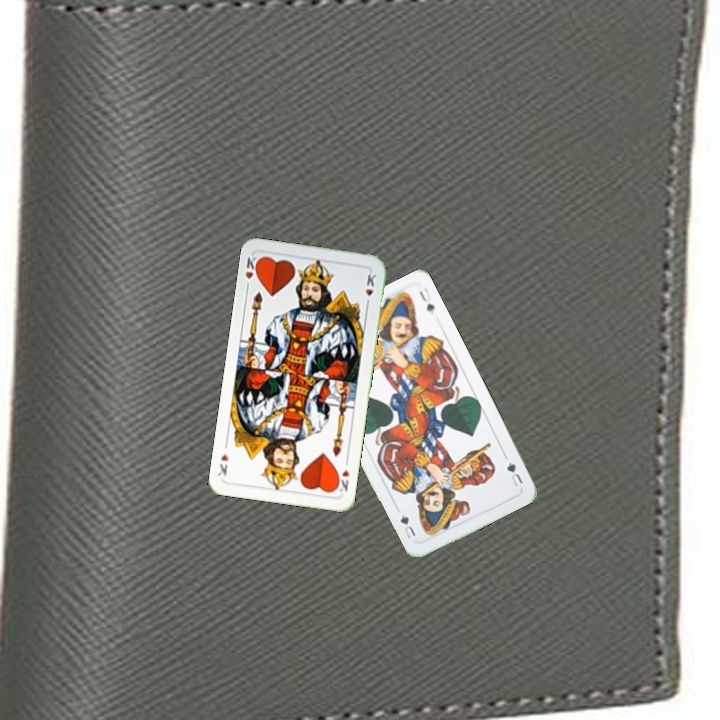GU: (503, 458, 526, 489)
HK: (241, 253, 262, 292), (332, 466, 352, 494)
